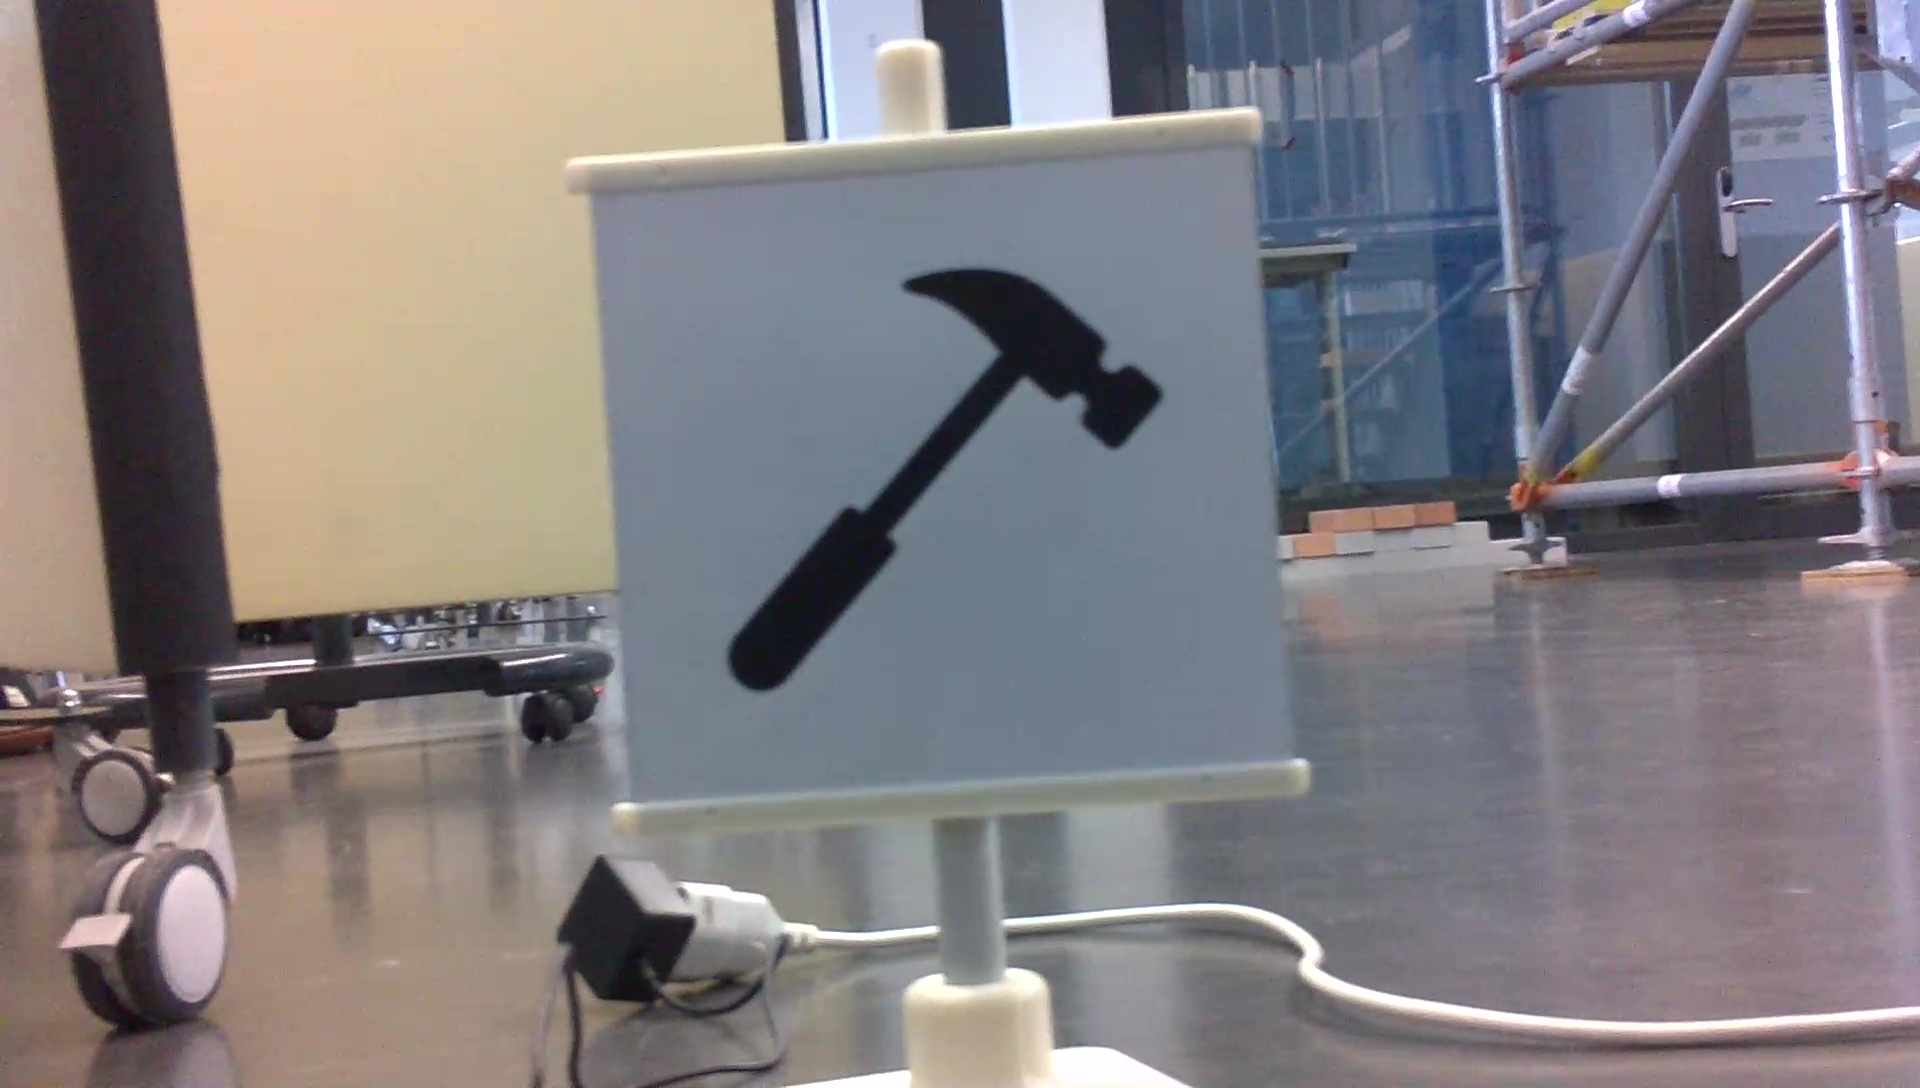hammer: (715, 260, 1178, 706)
